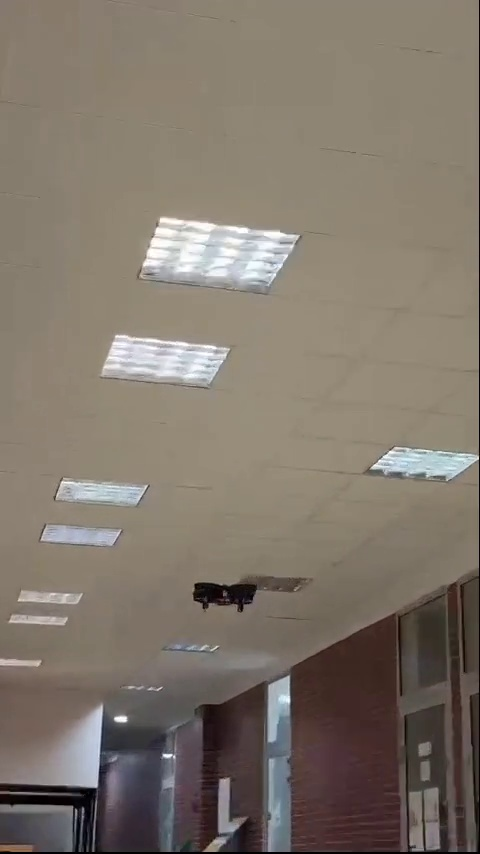drone: (188, 574, 265, 614)
